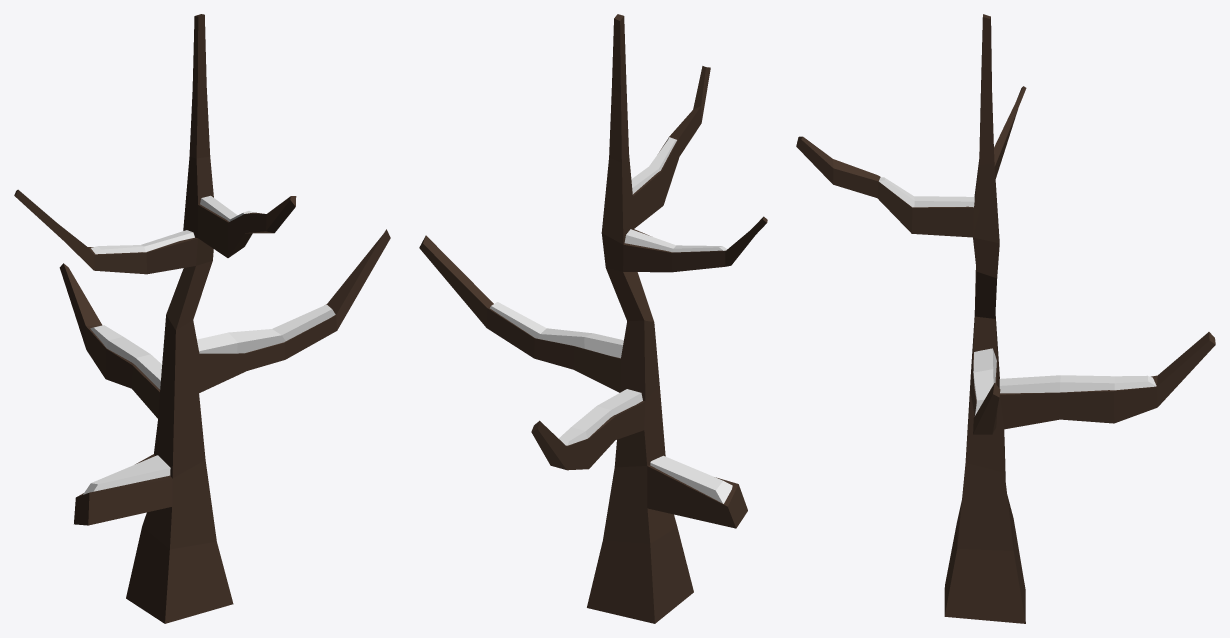
The model's file is winter_tree_2.fbx.
3 views of the same model, side by side, from view 1: azimuth 30°, elevation 25°; view 2: azimuth 150°, elevation 25°; view 3: azimuth 270°, elevation 25° (orthographic). The views are drawn at different scales.
Visible parts, largest first — view 1: winter_tree_2_LOD0; view 2: winter_tree_2_LOD0; view 3: winter_tree_2_LOD0.
Boxes of the visible parts, x1,y1,x2,y2 form: winter_tree_2_LOD0: (14,14,390,623); winter_tree_2_LOD0: (419,14,767,623); winter_tree_2_LOD0: (796,14,1215,623).
Size of what is drawn, in the model's own units: 1835 by 2831 by 1789.
